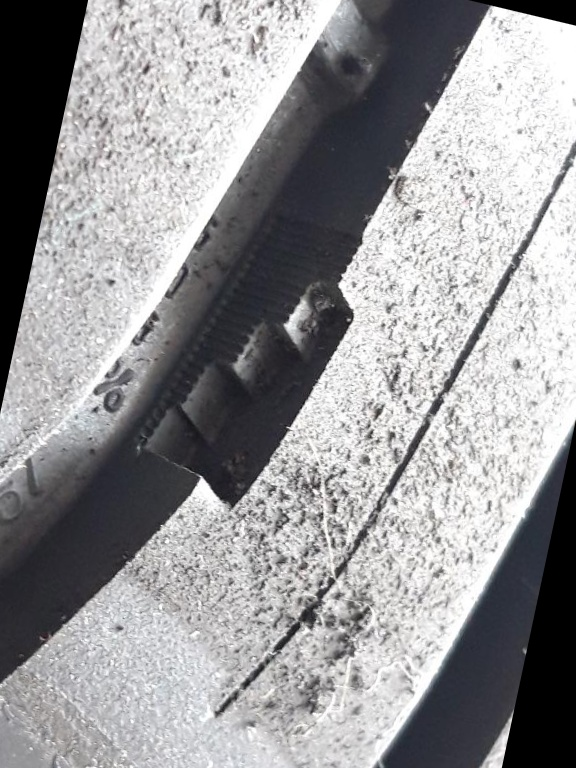temoin:95: (111, 172, 387, 551)
